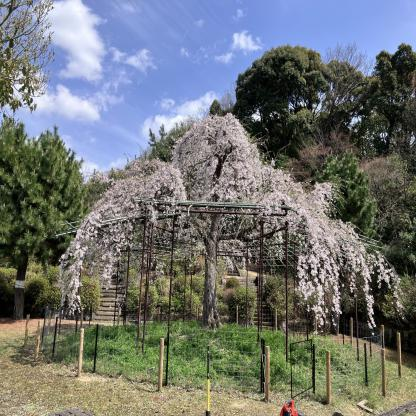ShidareZakura: (55, 104, 408, 336)
